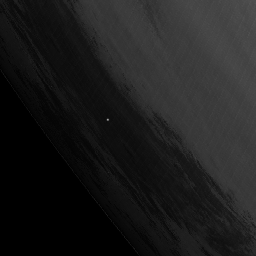Target: (105, 116, 111, 122)
